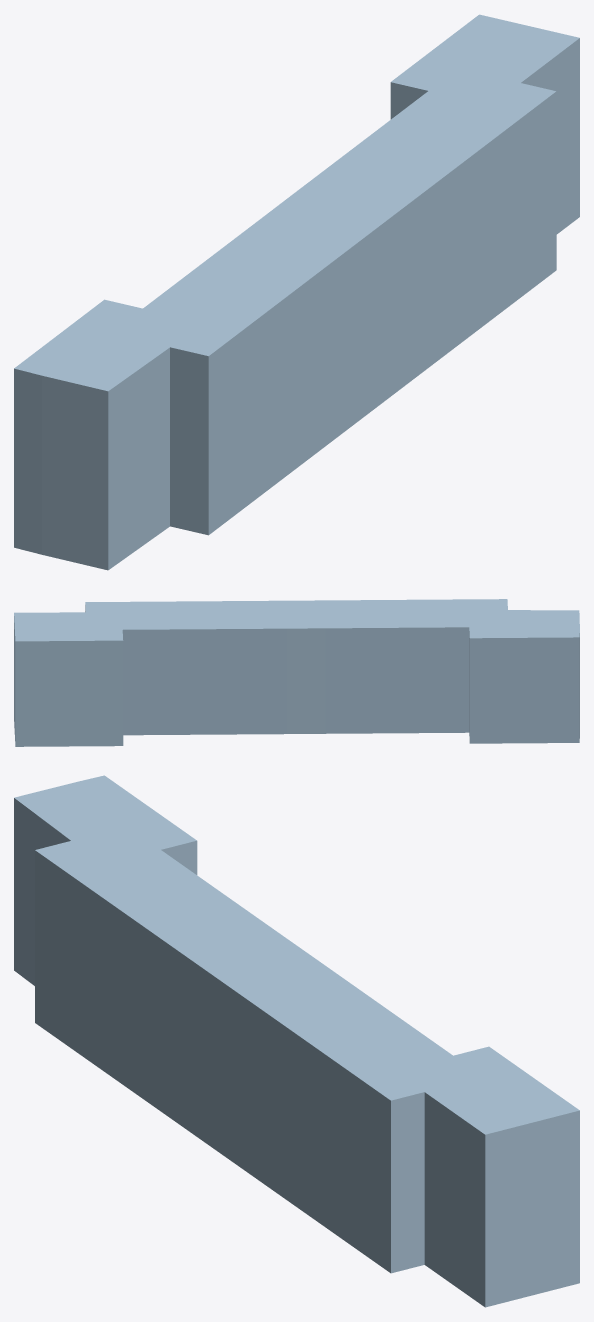
File: osm_way_225255192.glb
3 renders of one model, top to bottom at view 1: azimuth 30°, elevation 25°; view 2: azimuth 150°, elevation 25°; view 3: azimuth 270°, elevation 25°, orthographic. The views are drawn at different scales.
Parts seen in each view (by area): view 1: osm_way_225255192; view 2: osm_way_225255192; view 3: osm_way_225255192.
Boxes of the visible parts, <box> form: osm_way_225255192: <box>14,14,579,570</box>; osm_way_225255192: <box>14,599,579,746</box>; osm_way_225255192: <box>14,775,579,1307</box>.
Size of the model in its own units: 85.62 by 19.2 by 57.
